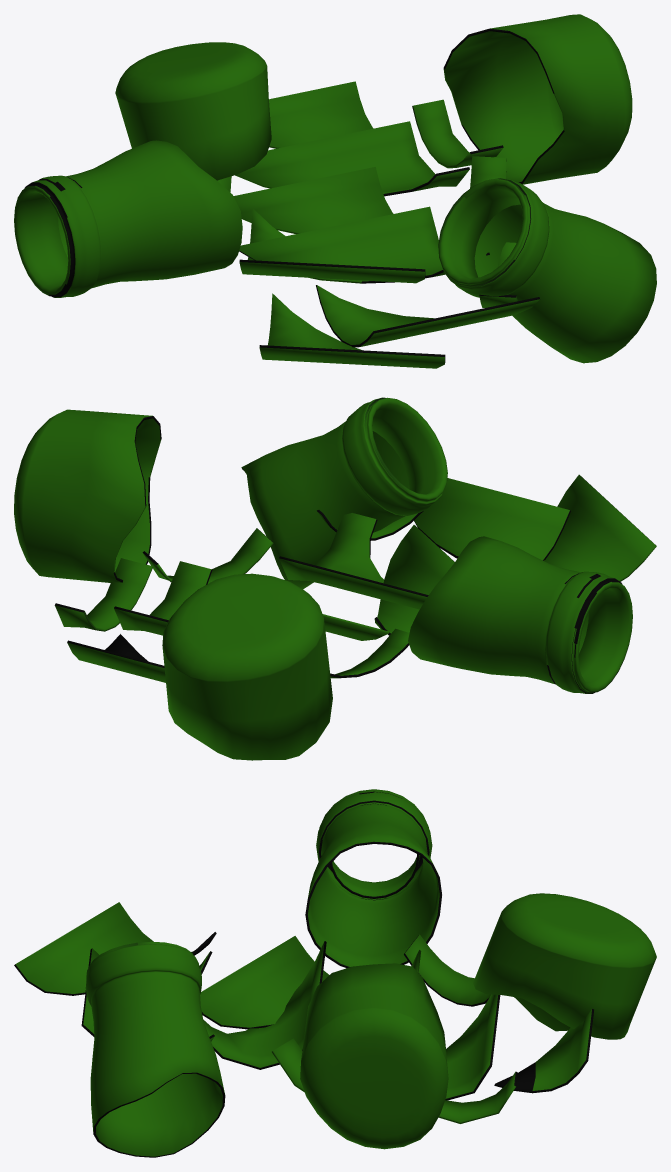
File: GarrafasQuebradas.fbx
3 views of the same model, one above another, from view 1: azimuth 30°, elevation 25°; view 2: azimuth 150°, elevation 25°; view 3: azimuth 270°, elevation 25° (orthographic). The views are drawn at different scales.
Parts seen in each view (by area): view 1: GarrafaQuebrada_LOD0; view 2: GarrafaQuebrada_LOD0; view 3: GarrafaQuebrada_LOD0.
Boxes of the visible parts, x1,y1,x2,y2 form: GarrafaQuebrada_LOD0: (14,14,656,368); GarrafaQuebrada_LOD0: (14,397,656,760); GarrafaQuebrada_LOD0: (14,789,656,1157).
Size of what is drawn, in the model's own units: 30.4 by 11.89 by 31.62.
